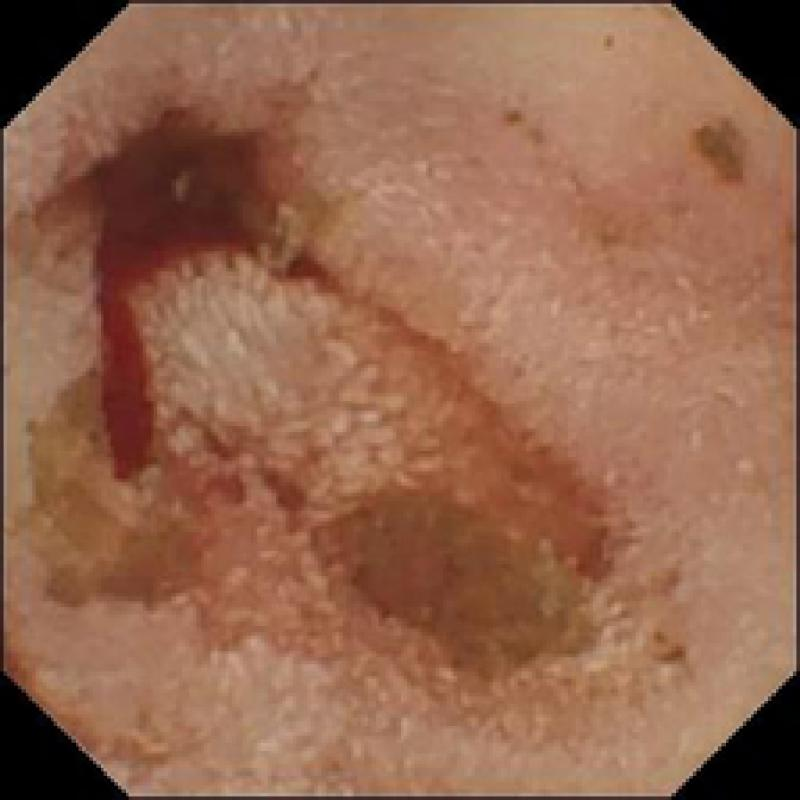bleeding: (86, 172, 246, 482)
